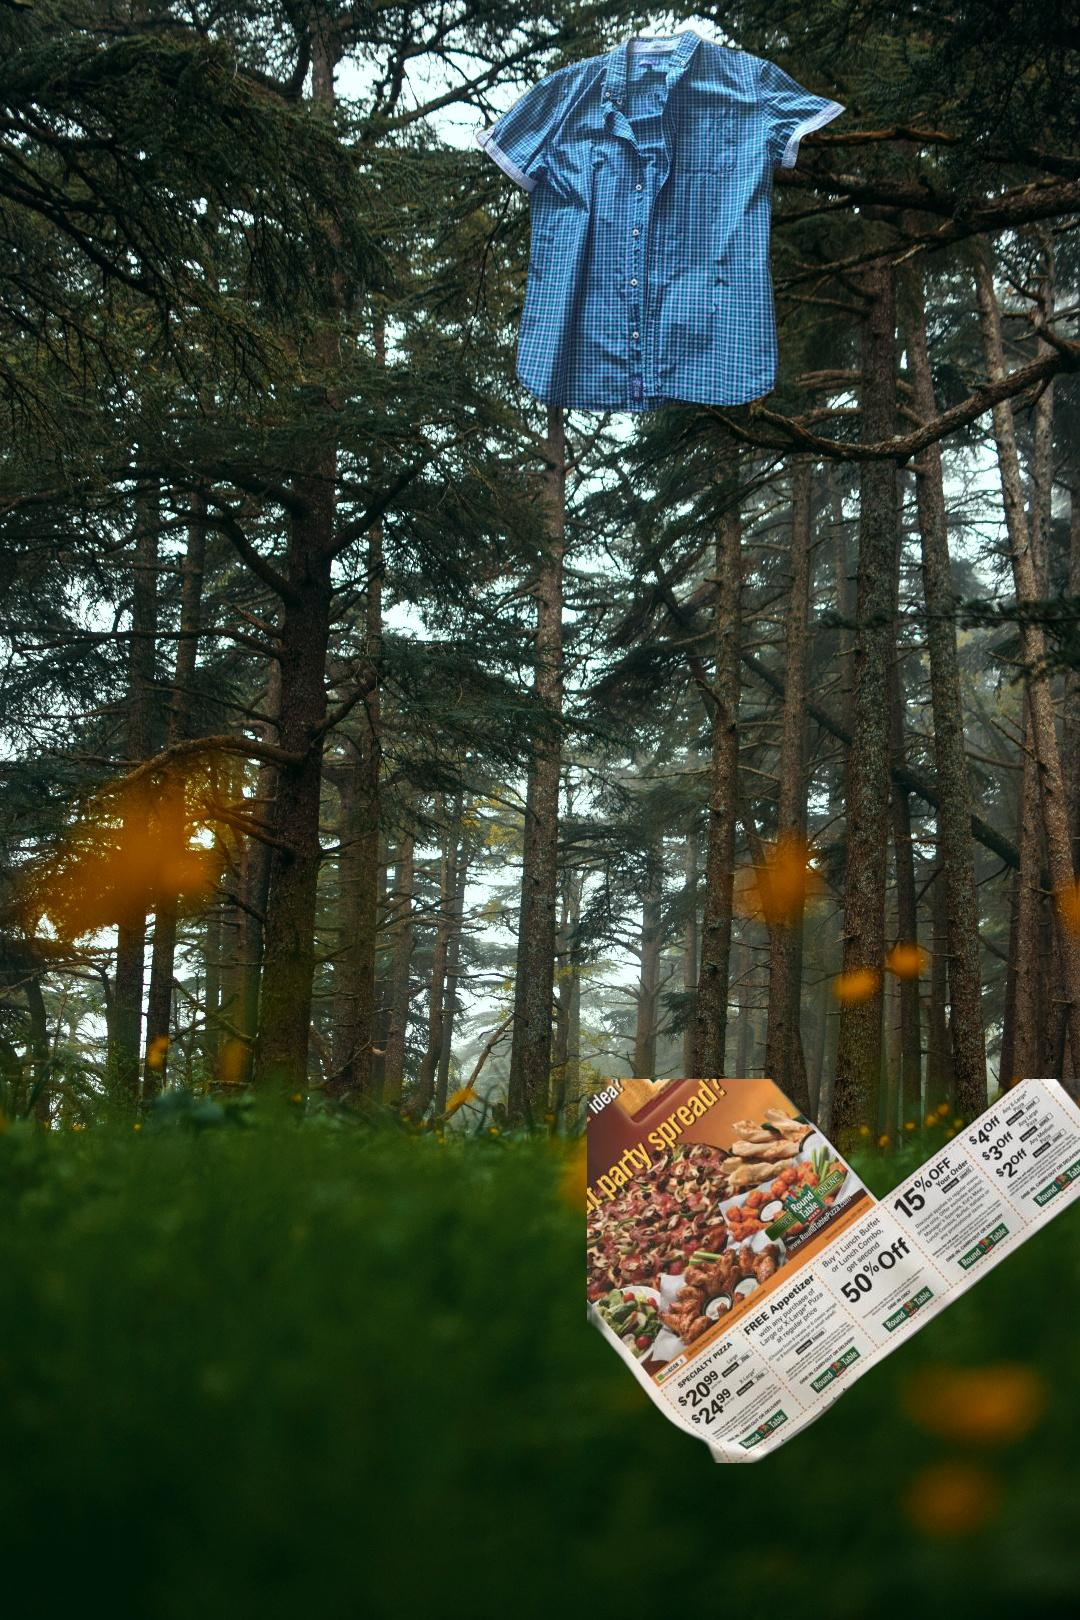clothes: (472, 25, 851, 417)
paper: (587, 1079, 1080, 1463)
